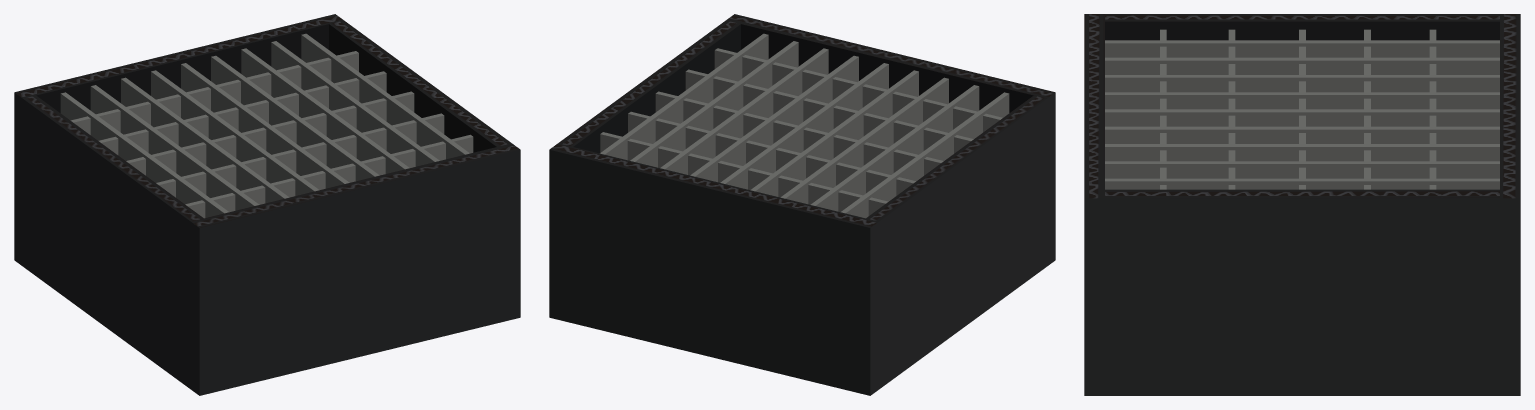
Rendered from SM_IronFloor.FBX.
The picture shows the model from 3 angles, left to right: view 1: azimuth 30°, elevation 25°; view 2: azimuth 150°, elevation 25°; view 3: azimuth 270°, elevation 25°; orthographic projection. The views are drawn at different scales.
Parts seen in each view (by area): view 1: tetsukousi01_01, tetsukousi01_02; view 2: tetsukousi01_01, tetsukousi01_02; view 3: tetsukousi01_01, tetsukousi01_02.
Boxes of the visible parts, x1=… form: tetsukousi01_01: x1=14, y1=14, x2=520, y2=395; tetsukousi01_02: x1=60, y1=33, x2=473, y2=218; tetsukousi01_01: x1=549, y1=14, x2=1055, y2=395; tetsukousi01_02: x1=600, y1=33, x2=1009, y2=218; tetsukousi01_01: x1=1084, y1=14, x2=1520, y2=395; tetsukousi01_02: x1=1105, y1=29, x2=1499, y2=189.
Size of what is drawn, in the model's own units: 100 by 100 by 49.98.
